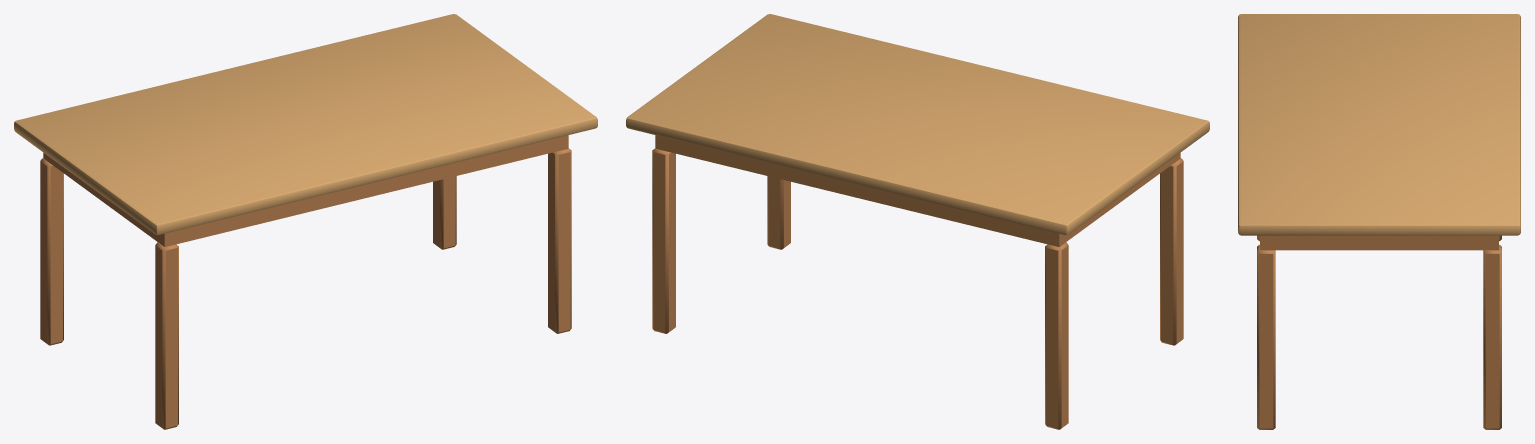
File: dining_table.glb
3 renders of one model, left to right at view 1: azimuth 30°, elevation 25°; view 2: azimuth 150°, elevation 25°; view 3: azimuth 270°, elevation 25°, orthographic.
Parts seen in each view (by area): view 1: body; view 2: body; view 3: body.
Boxes of the visible parts, x1,y1,x2,y2 form: body: [14, 14, 597, 429]; body: [626, 14, 1209, 429]; body: [1238, 14, 1520, 429].
Bounding box in the file's own units: 160 × 75 × 90.
